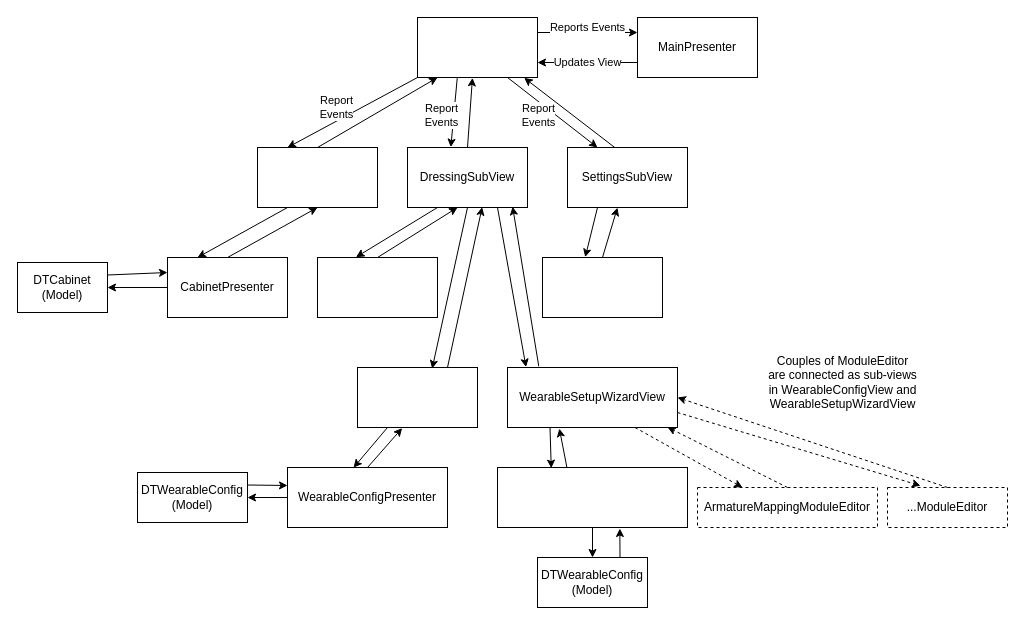
Image size: 1025x625. Some labels were removed from this diagram. The shapes that lost their labels are listed below. From the top down, each one's centre as x and y in pixels, then its label:
At (477,47): "MainView".
At (317,177): "CabinetSubView".
At (377,287): "DressingPresenter".
At (602,287): "SettingsPresenter".
At (417,397): "WearableConfigView".
At (592,497): "WearableSetupWizardPresenter".
